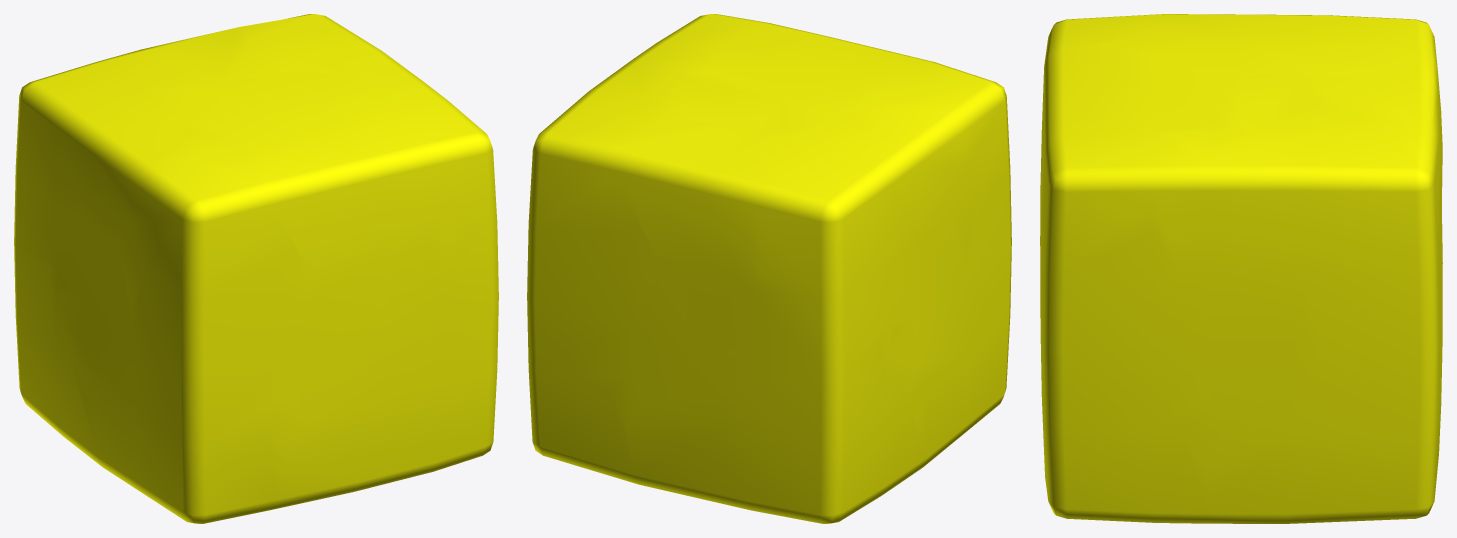
Rendered from ice_cube_1.glb.
3 views of the same model, side by side, from view 1: azimuth 30°, elevation 25°; view 2: azimuth 150°, elevation 25°; view 3: azimuth 270°, elevation 25° (orthographic). The views are drawn at different scales.
Parts seen in each view (by area): view 1: Ice_block_1_LOD0; view 2: Ice_block_1_LOD0; view 3: Ice_block_1_LOD0.
Boxes of the visible parts, box(x1,y1,x2,y2) form: Ice_block_1_LOD0: box(14, 14, 498, 523); Ice_block_1_LOD0: box(527, 14, 1011, 523); Ice_block_1_LOD0: box(1040, 14, 1442, 523).
Size of what is drawn, in the model's own units: 1.09 by 1.09 by 1.09.
Materials: 1 (1 with a texture image).
